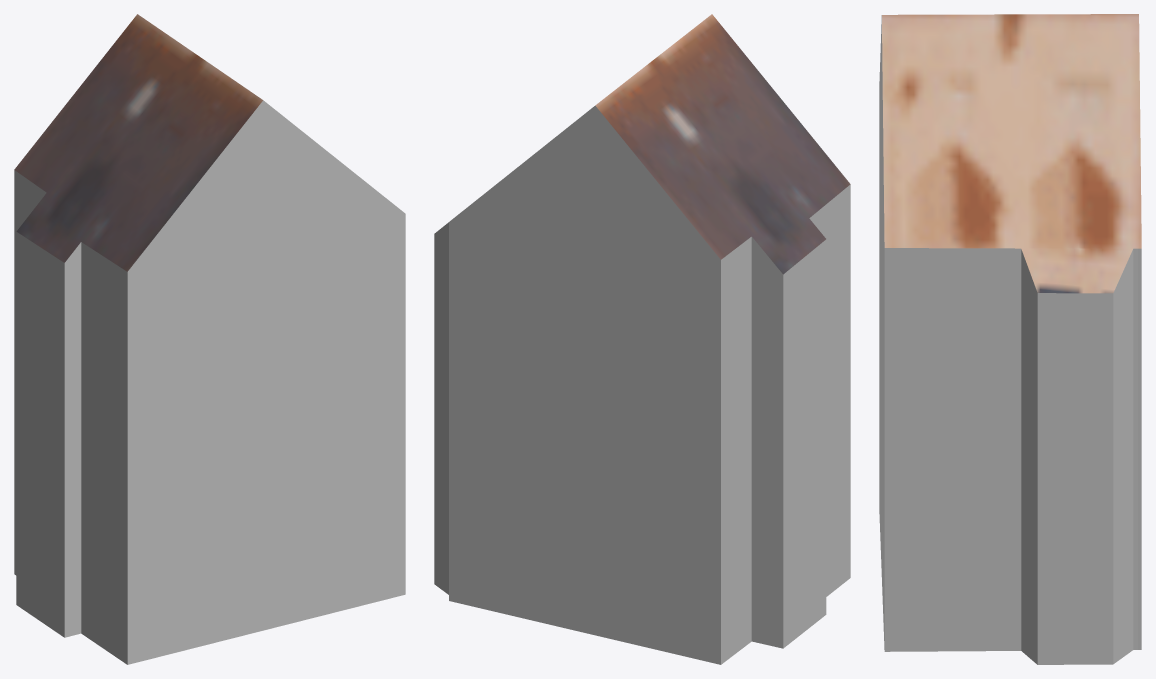
The model's file is DEBW_0010007Tx7T.gltf.
3 views of the same model, side by side, from view 1: azimuth 30°, elevation 25°; view 2: azimuth 150°, elevation 25°; view 3: azimuth 270°, elevation 25° (orthographic). The views are drawn at different scales.
Visible parts, largest first — view 1: Z_UP; view 2: Z_UP; view 3: Z_UP.
Boxes of the visible parts, x1,y1,x2,y2 form: Z_UP: (14, 14, 405, 664); Z_UP: (434, 14, 850, 664); Z_UP: (879, 14, 1141, 664).
Bounding box in the file's own units: 14.23 × 21.99 × 9.3.
2 materials, 1 textured.
